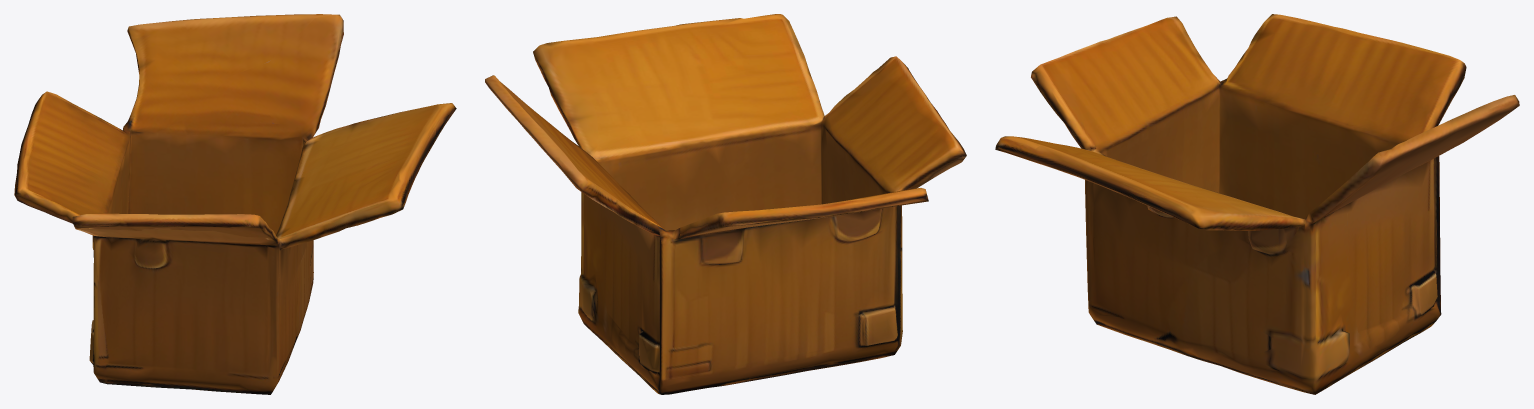
3 renders of one model, left to right at view 1: azimuth 30°, elevation 25°; view 2: azimuth 150°, elevation 25°; view 3: azimuth 270°, elevation 25°, orthographic. The views are drawn at different scales.
Visible parts, largest first — view 1: tripo_node_fc5ccc52; view 2: tripo_node_fc5ccc52; view 3: tripo_node_fc5ccc52.
Boxes of the visible parts, x1,y1,x2,y2 form: tripo_node_fc5ccc52: (14, 14, 456, 394); tripo_node_fc5ccc52: (485, 14, 966, 394); tripo_node_fc5ccc52: (995, 14, 1519, 394).
Size of the model in its own units: 46.41 by 26.6 by 45.75.
